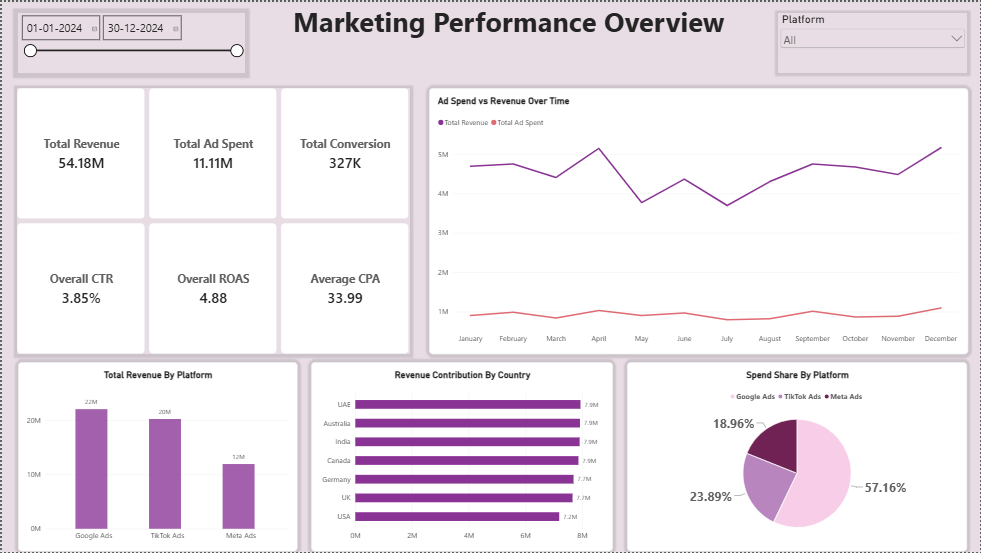

The dashboard page shown, as its layout file describes it:
{"tool":"powerbi","page":{"name":"Marketing Performance Overview","canvas":[1920,1080],"ordinal":0},"visuals":[{"type":"cardVisual","fields":{"Data":["Measure Table.Total Revenue","Measure Table.Total Ad Spent","Measure Table.Total Conversion","Measure Table.Overall CTR","Measure Table.Overall ROAS","Measure Table.Average CPA"]},"box":[29.8,168,771.7,523],"z":0},{"type":"clusteredColumnChart","title":"Total Revenue By Platform","fields":{"Category":["marketing_campaign_cleaned.platform"],"Y":["Measure Table.Total Revenue"]},"box":[30.9,707.5,548.8,372.5],"z":1000},{"type":"lineChart","title":"Ad Spend vs Revenue Over Time","fields":{"Category":["marketing_campaign_cleaned.date.Variation.Date Hierarchy.Month","marketing_campaign_cleaned.date.Variation.Date Hierarchy.Quarter"],"Y":["Measure Table.Total Revenue","Measure Table.Total Ad Spent"]},"box":[837.6,168,1058.7,523],"z":2000},{"type":"clusteredBarChart","title":"Revenue Contribution By Country","fields":{"Category":["marketing_campaign_cleaned.country"],"Y":["Measure Table.Total Revenue"]},"box":[606.1,707.5,593.1,372],"z":3000},{"type":"pieChart","title":"Spend Share By Platform","fields":{"Category":["marketing_campaign_cleaned.platform"],"Y":["Measure Table.Total Ad Spent"]},"box":[1227.7,707.5,667.8,372.5],"z":4000},{"type":"textbox","box":[535.7,0,918,73.4],"z":5000},{"type":"slicer","fields":{"Values":["marketing_campaign_cleaned.platform"]},"box":[1523,22,372.5,116.8],"z":6000},{"type":"slicer","fields":{"Values":["marketing_campaign_cleaned.date"]},"box":[30.9,22,445.2,116.8],"z":7000}]}

Visuals, with their boxes in screenshot pixels (x1, y1, x2, y2), scaled from the page's 1920x1080 canvas onto the 981x553 screenshot:
cardVisual - Measure Table.Total Revenue x Measure Table.Total Ad Spent: region(15, 86, 410, 354)
"Total Revenue By Platform" clusteredColumnChart: region(16, 362, 296, 552)
"Ad Spend vs Revenue Over Time" lineChart: region(428, 86, 969, 354)
"Revenue Contribution By Country" clusteredBarChart: region(310, 362, 613, 552)
"Spend Share By Platform" pieChart: region(627, 362, 968, 552)
textbox: region(274, 0, 743, 38)
slicer - marketing_campaign_cleaned.platform: region(778, 11, 968, 71)
slicer - marketing_campaign_cleaned.date: region(16, 11, 243, 71)
